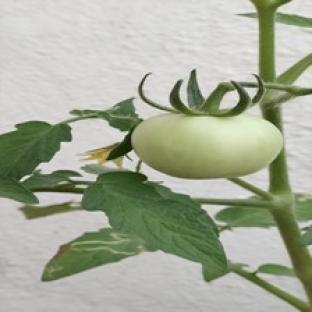Tomato: (131, 113, 282, 179)
